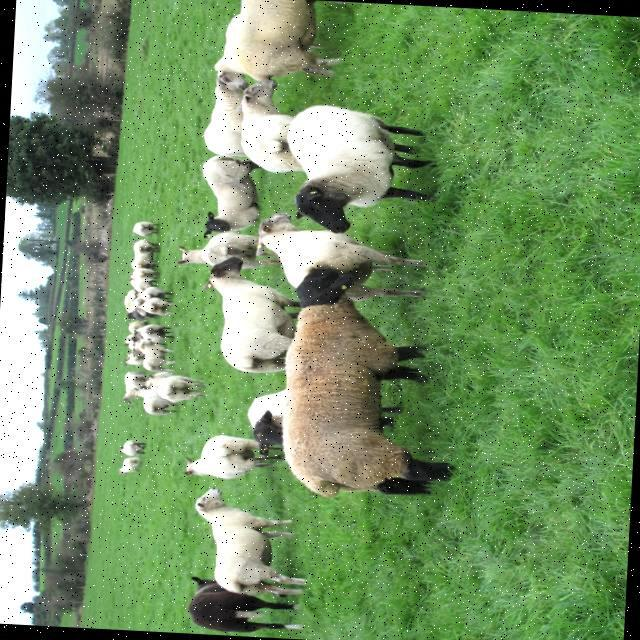sheep: (194, 492, 299, 595)
